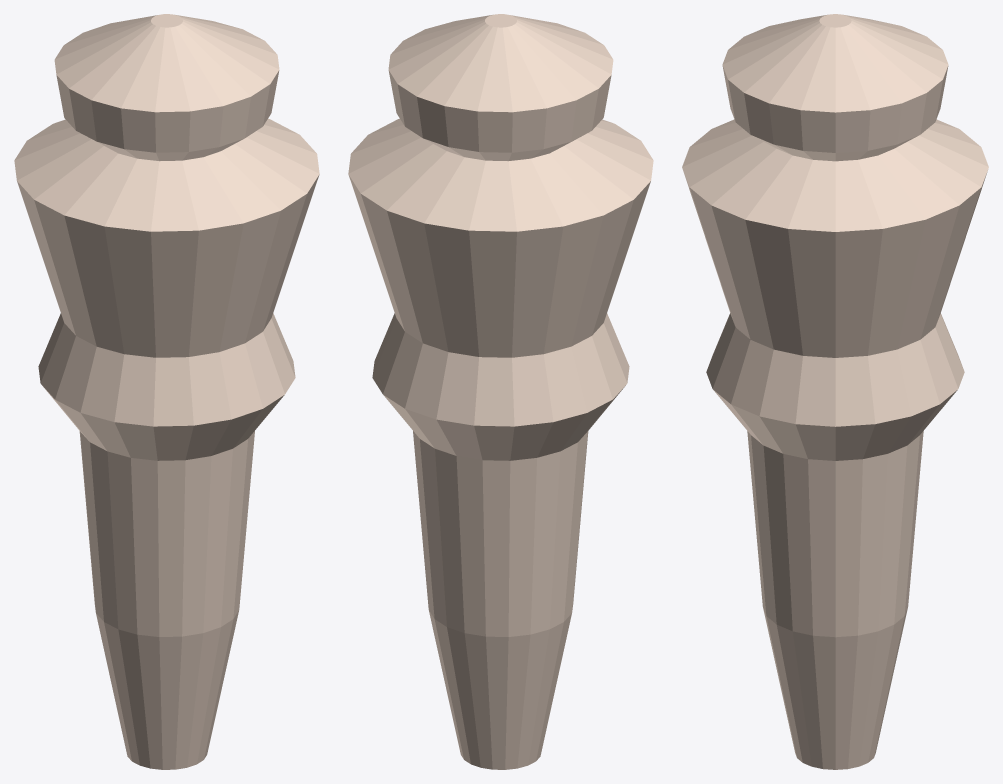
The model's file is female.glb.
3 renders of one model, left to right at view 1: azimuth 30°, elevation 25°; view 2: azimuth 150°, elevation 25°; view 3: azimuth 270°, elevation 25°, orthographic.
Bounding box in the file's own units: 0.38 × 1 × 0.38.
